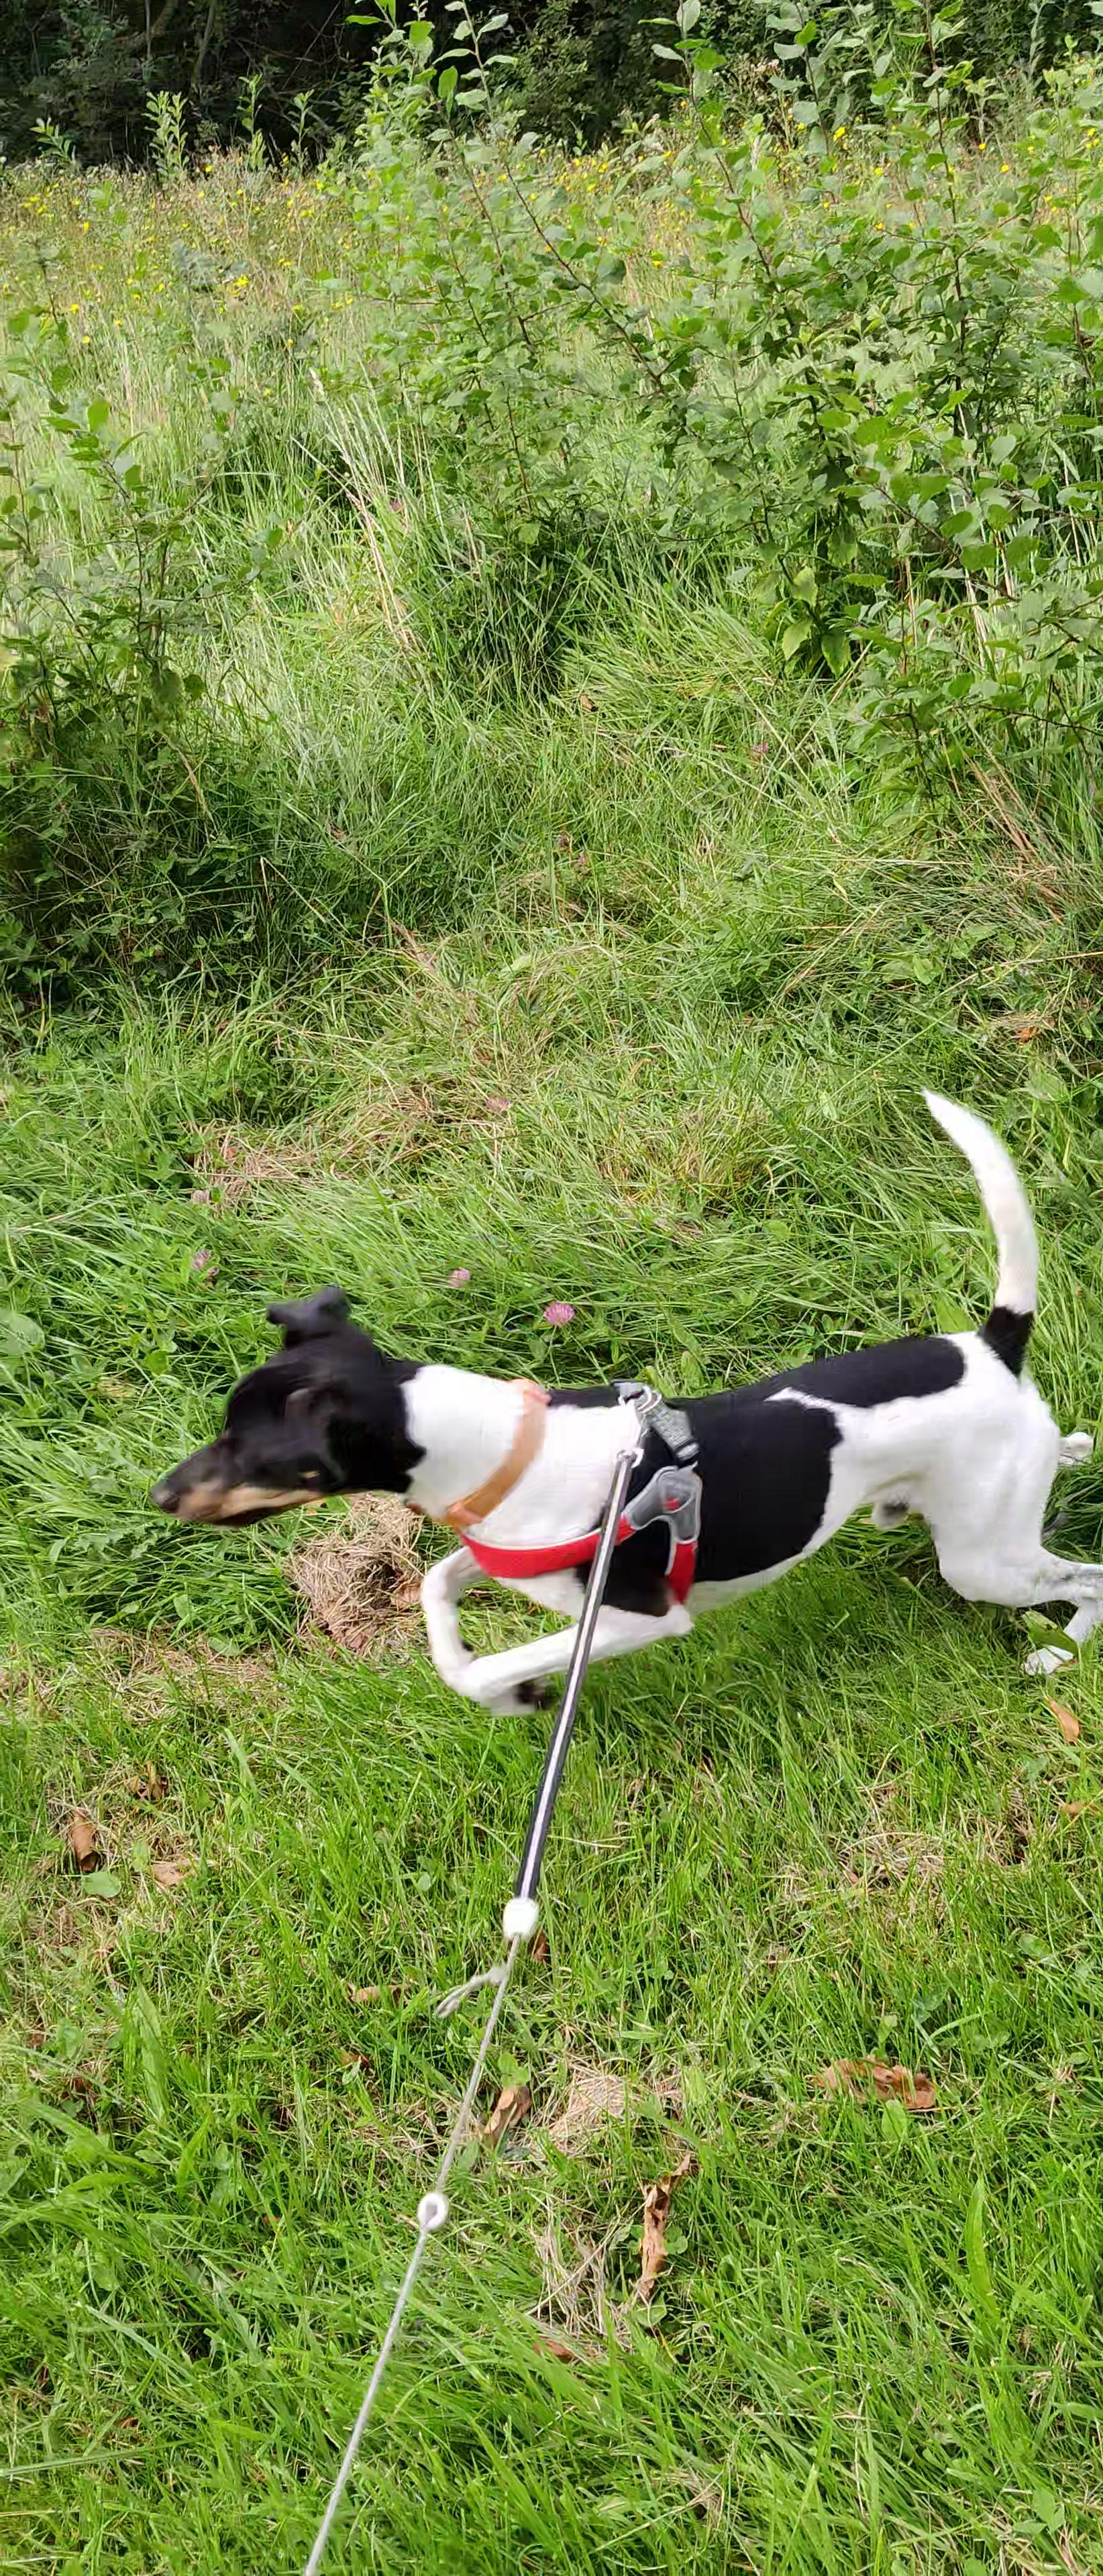Dog: (141, 1079, 1103, 1727)
